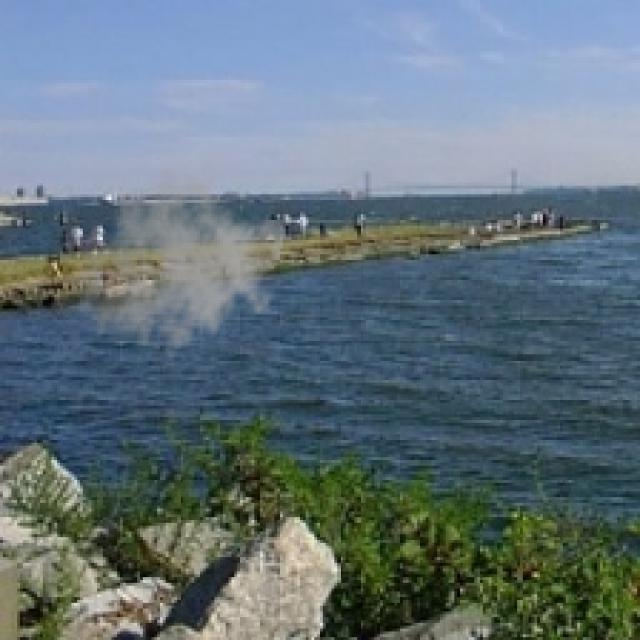smoke: (74, 165, 289, 368)
